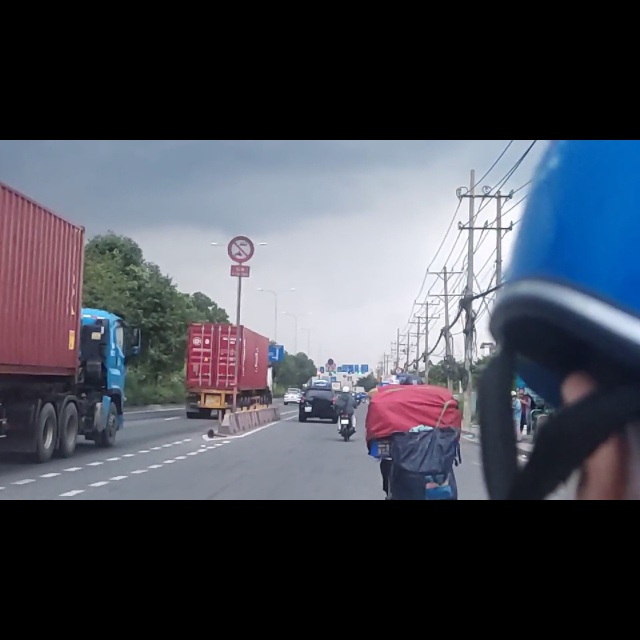bien_cam: (228, 171, 255, 218)
